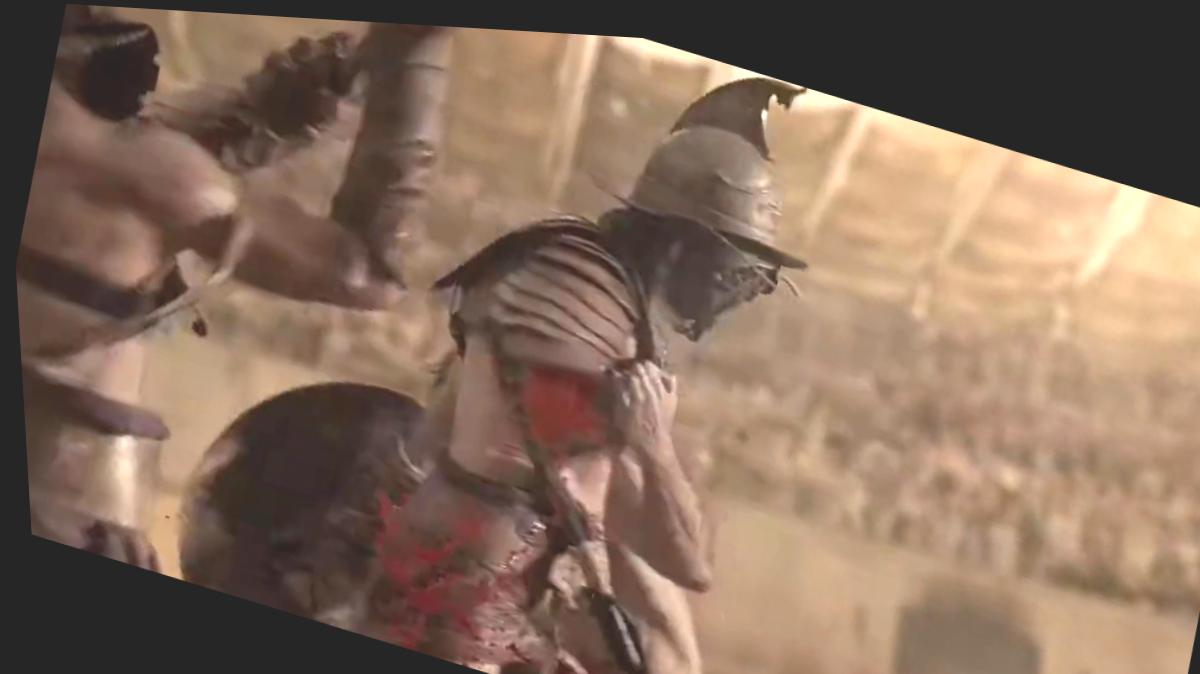Fire: (351, 496, 547, 662), (518, 360, 607, 451)
